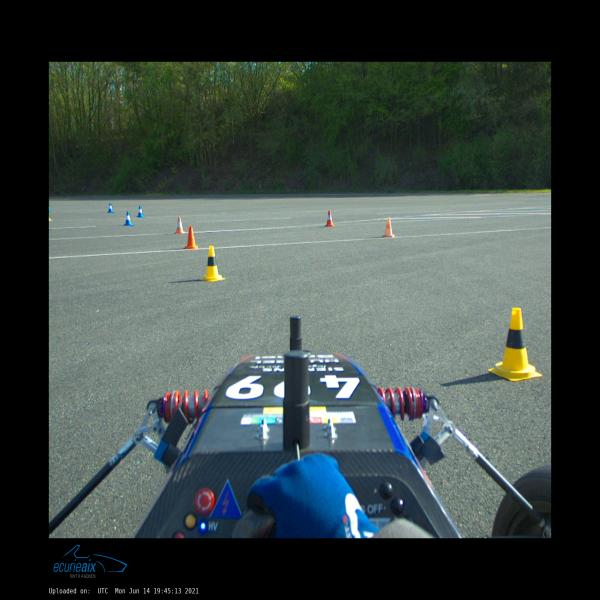blue_cone: (124, 211, 134, 226), (137, 205, 145, 218), (108, 203, 114, 213), (48, 203, 52, 212)
orange_cone: (185, 226, 198, 249), (174, 216, 186, 234), (324, 210, 335, 227)
unknown_cone: (382, 217, 395, 237)
yellow_cone: (488, 308, 542, 382), (200, 246, 225, 282), (48, 214, 52, 221)
